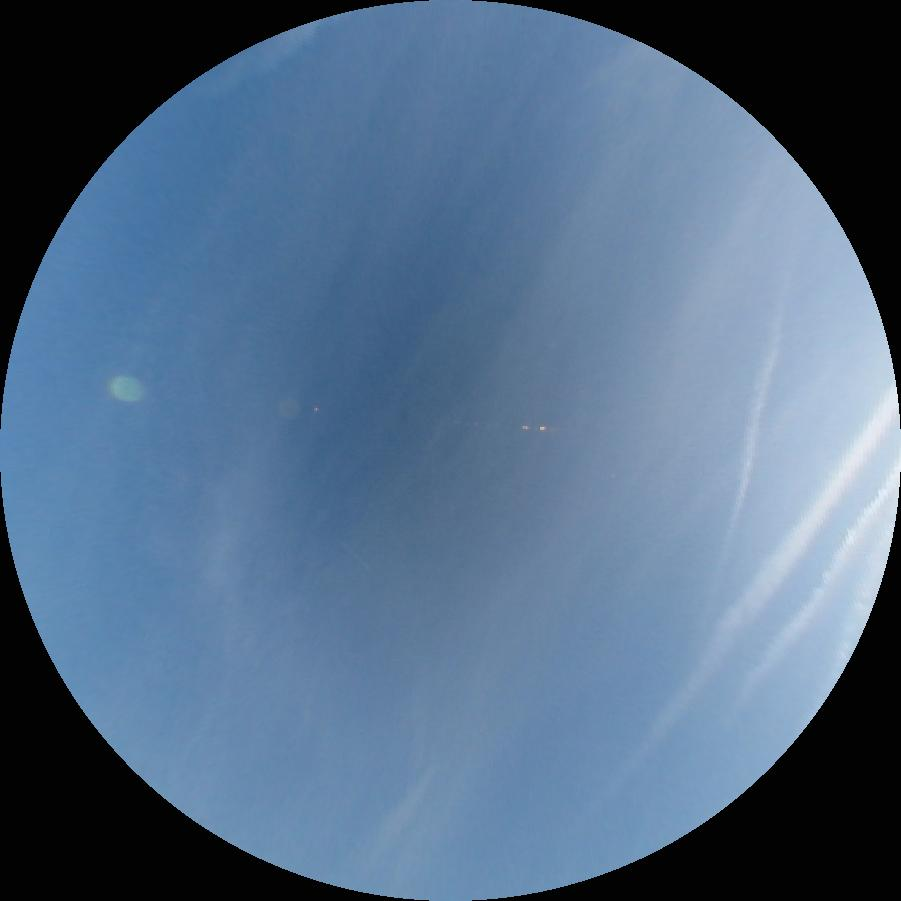contrail old: (719, 271, 791, 584)
contrail veryold: (563, 389, 894, 823), (739, 465, 901, 704)
contrail young: (316, 518, 371, 571)
